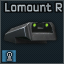M45A1 Novak Lomount rear sight: (0, 0, 64, 64)
